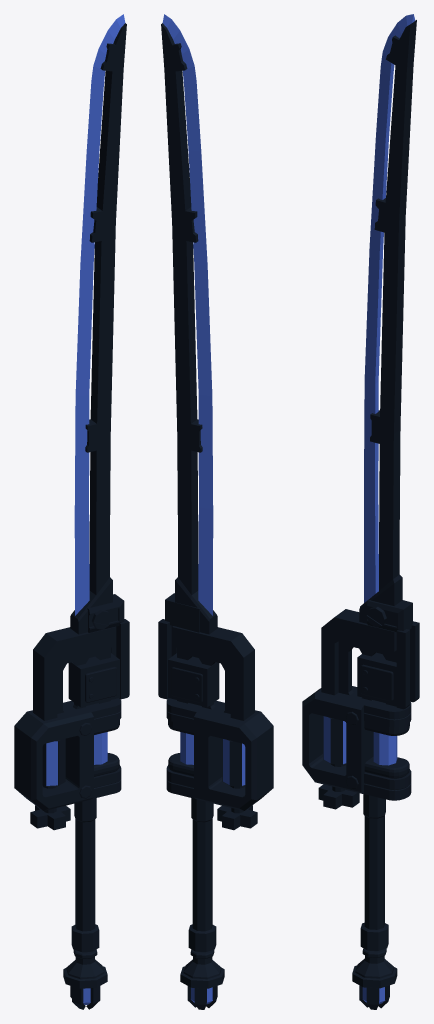
The model's file is Kal (3).fbx.
The picture shows the model from 3 angles, left to right: view 1: azimuth 30°, elevation 25°; view 2: azimuth 150°, elevation 25°; view 3: azimuth 330°, elevation 25°; orthographic projection.
Visible parts, largest first — view 1: Cylinder.001; view 2: Cylinder.001; view 3: Cylinder.001.
Boxes of the visible parts, bbox=[...] form: Cylinder.001: bbox=[14, 14, 129, 1009]; Cylinder.001: bbox=[158, 14, 273, 1009]; Cylinder.001: bbox=[302, 14, 419, 1009].
Size of the model in its own units: 26.83 by 250 by 10.65.
